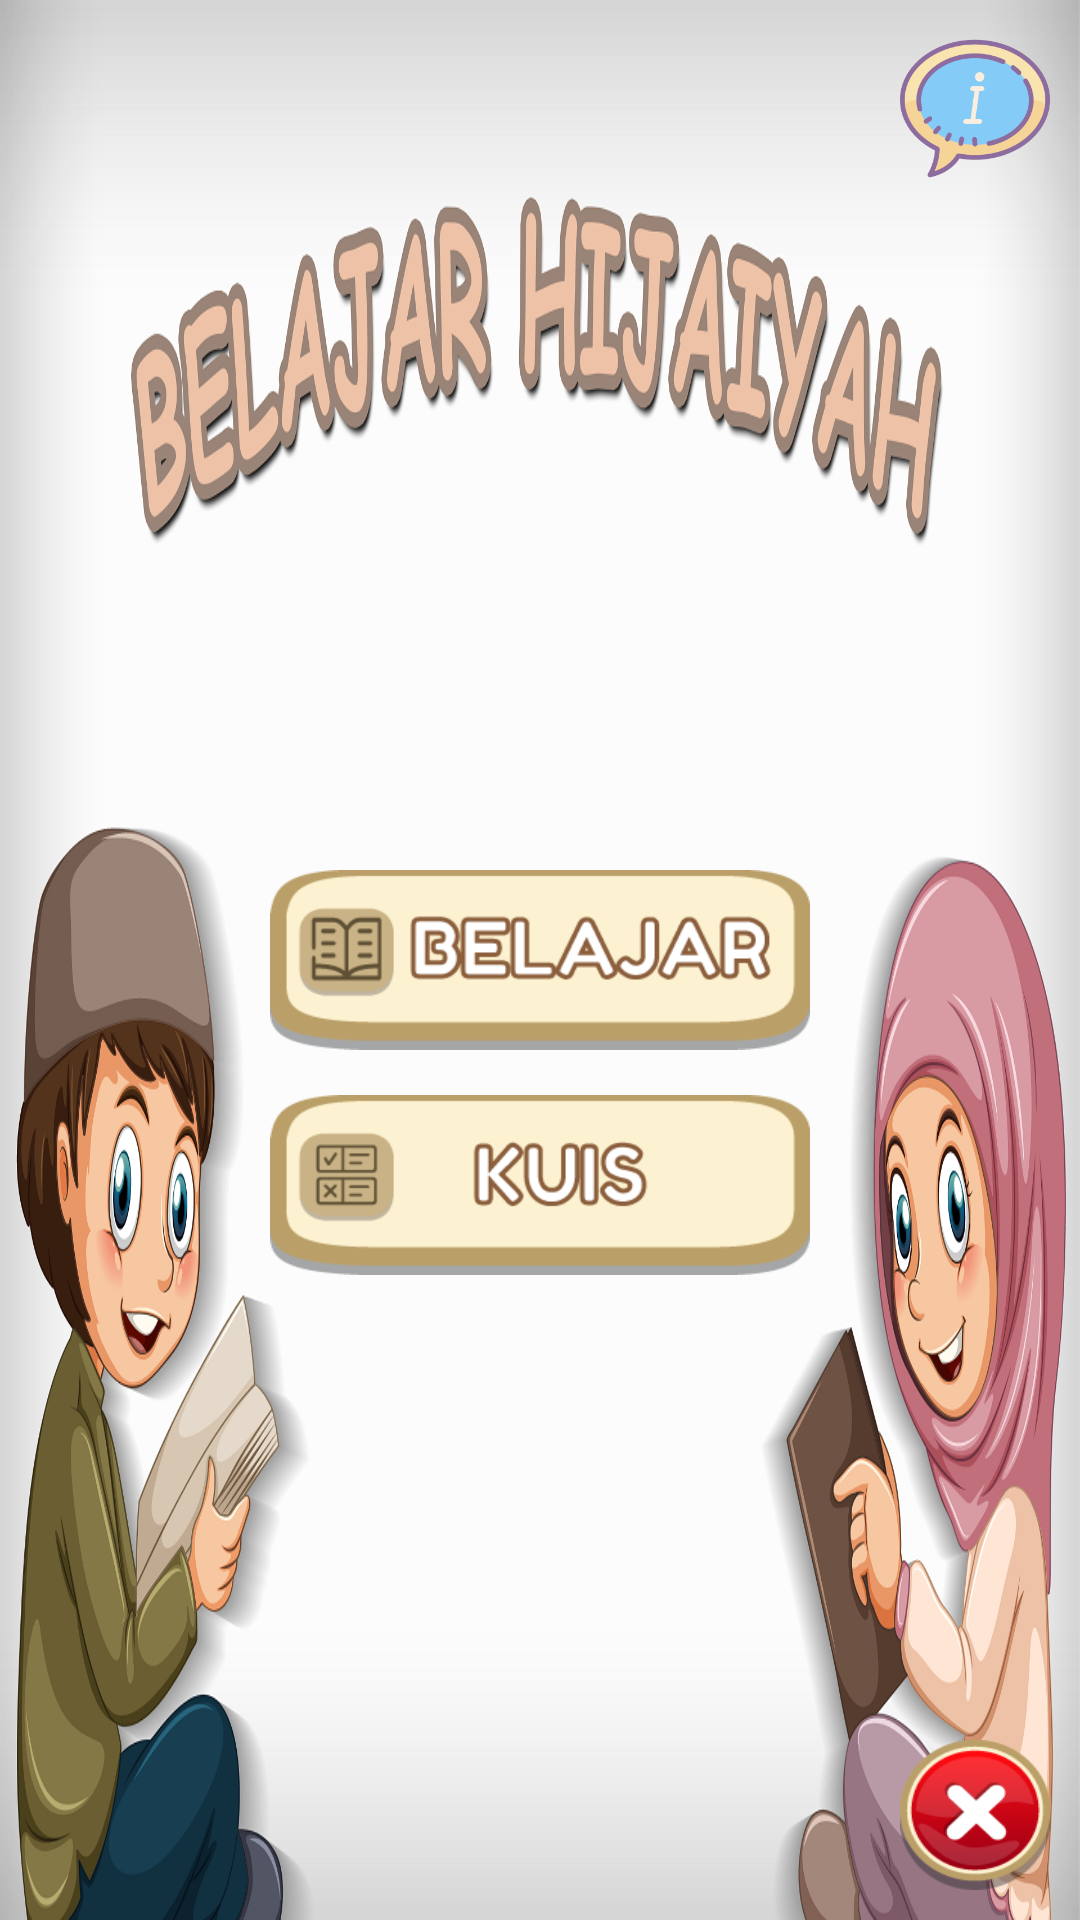

Screen size 1080px×1920px. Icon name, then its center in pixels as (x=x, y=y):
about: (x=975, y=108)
exit: (x=975, y=1815)
